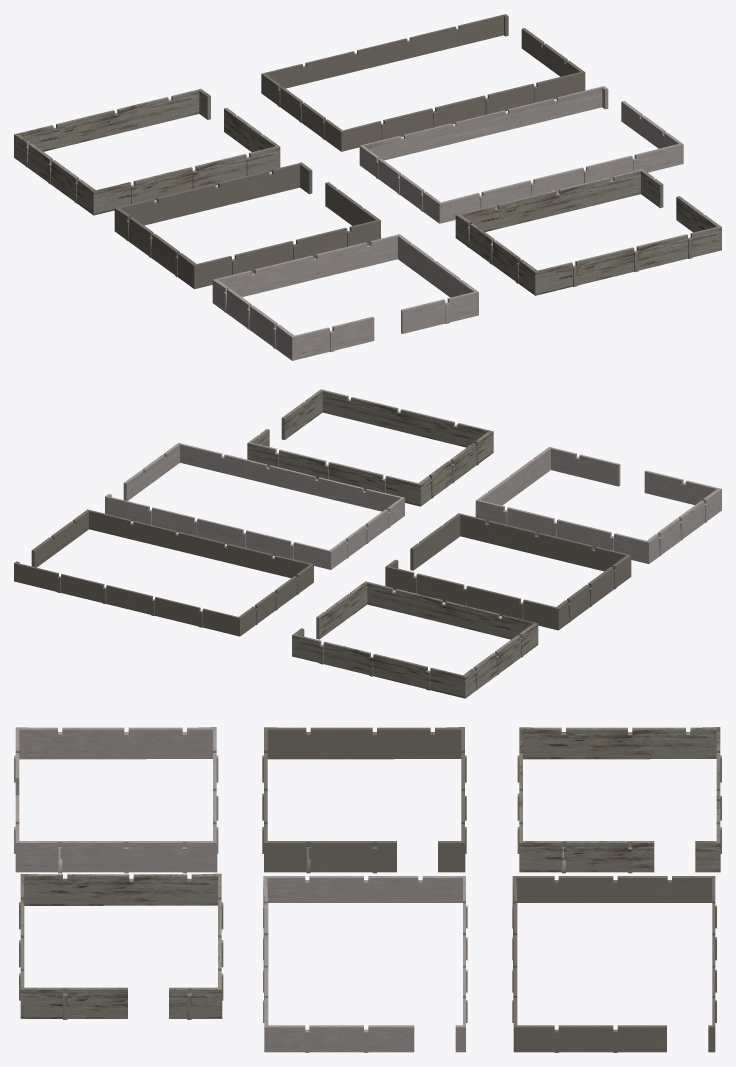
File: NEW BACK HOUSES.fbx
3 renders of one model, top to bottom at view 1: azimuth 30°, elevation 25°; view 2: azimuth 150°, elevation 25°; view 3: azimuth 270°, elevation 25°, orthographic. The views are drawn at different scales.
Visible parts, largest first — view 1: House_1, House_3, House_2, House_4, House_5, House_6; view 2: House_1, House_2, House_5, House_6, House_3, House_4; view 3: House_4, House_5, House_6, House_3, House_1, House_2.
Part boxes in pixels (x1=…): House_1: x1=261, y1=14, x2=585, y2=151; House_3: x1=455, y1=169, x2=721, y2=295; House_2: x1=359, y1=86, x2=683, y2=223; House_4: x1=212, y1=234, x2=478, y2=360; House_5: x1=14, y1=88, x2=280, y2=215; House_6: x1=114, y1=162, x2=380, y2=289; House_1: x1=14, y1=509, x2=313, y2=636; House_2: x1=105, y1=443, x2=404, y2=569; House_5: x1=292, y1=581, x2=538, y2=698; House_6: x1=385, y1=513, x2=631, y2=630; House_3: x1=247, y1=389, x2=493, y2=506; House_4: x1=475, y1=447, x2=721, y2=563; House_4: x1=14, y1=727, x2=218, y2=873; House_5: x1=517, y1=727, x2=721, y2=873; House_6: x1=262, y1=727, x2=466, y2=873; House_3: x1=19, y1=873, x2=223, y2=1019; House_1: x1=512, y1=876, x2=716, y2=1052; House_2: x1=263, y1=876, x2=467, y2=1052.
Size of the model in its own units: 69.57 by 3.68 by 68.51.
Materials: 3 (3 with a texture image).
